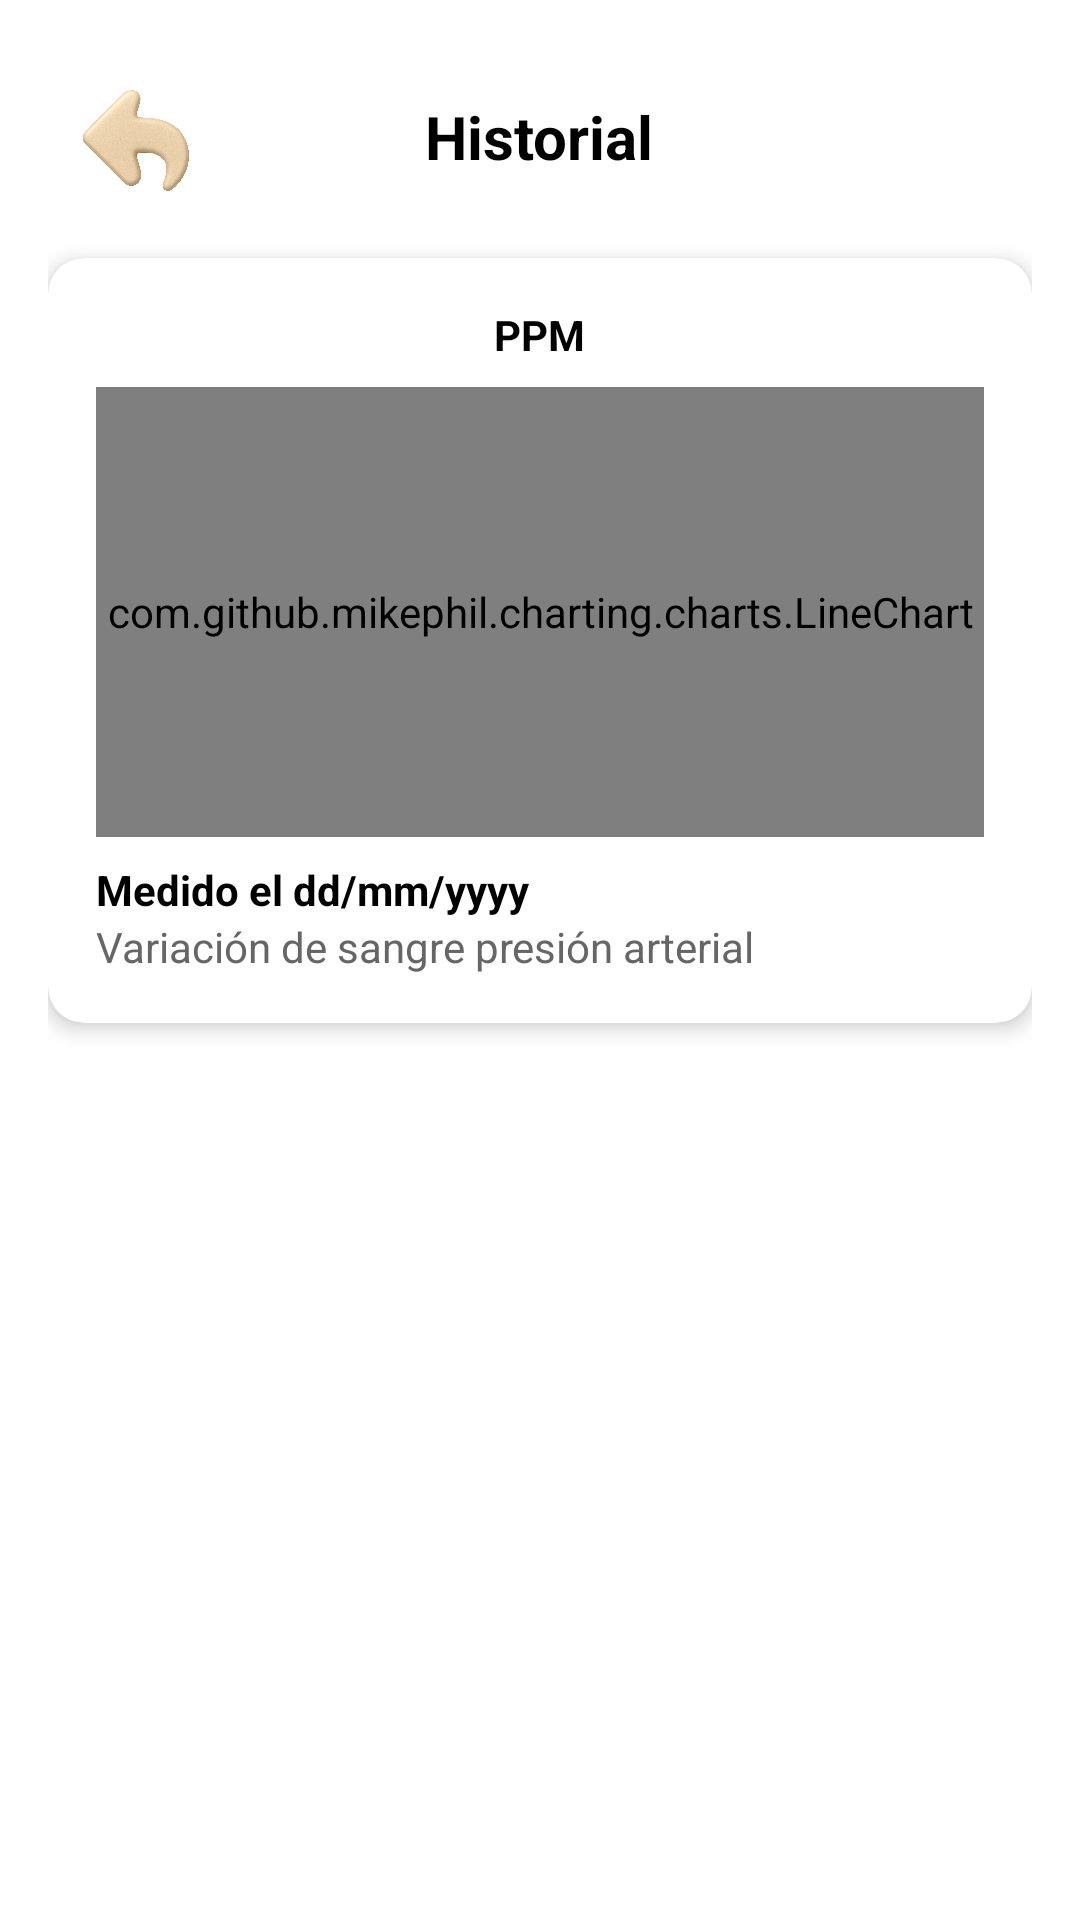

Named icons in this screenshot (1080px×1920px) and their bounding boxes, (x1, y1, x2, y2):
Volver: (83, 90, 189, 191)
